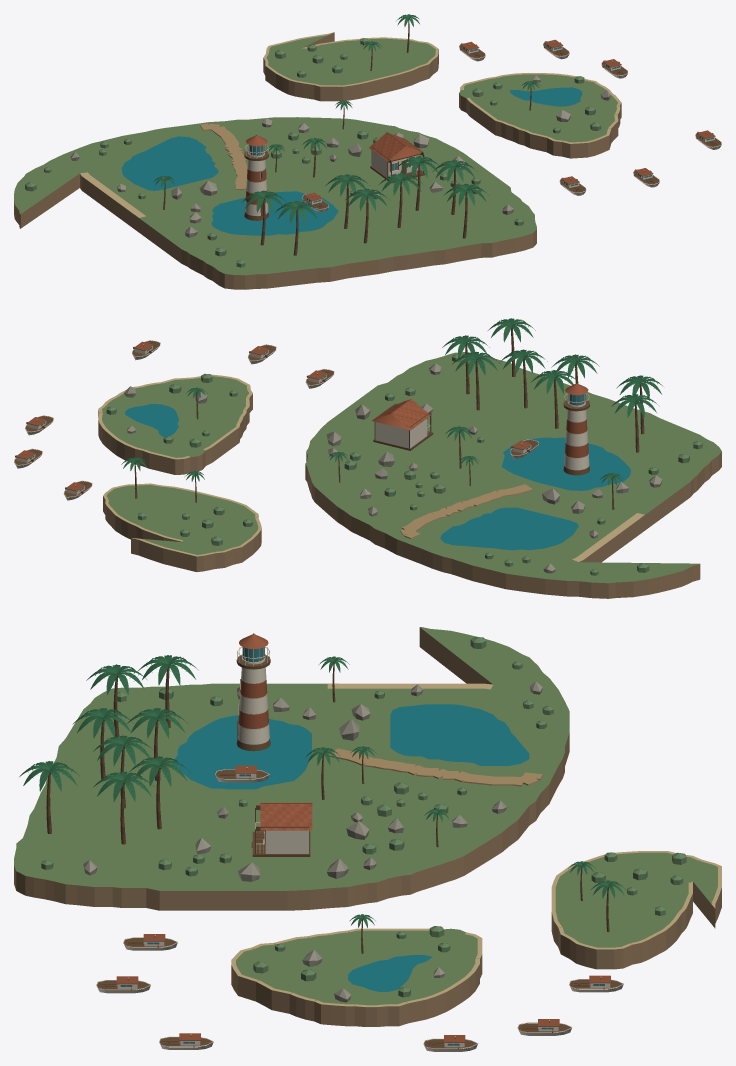
File: model-scene-coastal.glb
3 renders of one model, top to bottom at view 1: azimuth 30°, elevation 25°; view 2: azimuth 150°, elevation 25°; view 3: azimuth 270°, elevation 25°, orthographic. The views are drawn at different scales.
Parts seen in each view (by area): view 1: land-c2191259, land-83e66dc9, land-e67bfb3a, water-6e911087, water-dcebf052, cabin-eee16daa, lighthouse-6a3ef8b5, water-161bee82, road-8c27df0e, palm-fcf5655d, palm-a5e5d894, palm-e4e12d5a (+5 smaller); view 2: land-c2191259, land-e67bfb3a, land-83e66dc9, water-6e911087, water-dcebf052, cabin-eee16daa, lighthouse-6a3ef8b5, road-8c27df0e, water-161bee82, palm-ed6868f5, palm-a5e5d894, palm-fcf5655d (+5 smaller); view 3: land-c2191259, land-83e66dc9, land-e67bfb3a, water-6e911087, water-dcebf052, lighthouse-6a3ef8b5, cabin-eee16daa, road-8c27df0e, water-161bee82, palm-b118d524, palm-fdc477ab, palm-ed6868f5 (+12 smaller).
Part boxes in pixels (x1,y1,x2,y2): land-c2191259: (14, 100, 536, 289); land-83e66dc9: (459, 73, 621, 158); land-e67bfb3a: (263, 14, 438, 101); water-6e911087: (121, 136, 218, 190); water-dcebf052: (211, 191, 338, 235); cabin-eee16daa: (369, 132, 424, 182); lighthouse-6a3ef8b5: (244, 134, 268, 220); water-161bee82: (510, 87, 582, 106); road-8c27df0e: (200, 123, 247, 189); palm-fcf5655d: (379, 173, 422, 227); palm-a5e5d894: (242, 190, 284, 245); palm-e4e12d5a: (275, 201, 319, 255); land-c2191259: (305, 352, 721, 598); land-e67bfb3a: (103, 457, 261, 571); land-83e66dc9: (98, 373, 252, 474); water-6e911087: (440, 507, 578, 550); water-dcebf052: (501, 437, 630, 490); cabin-eee16daa: (372, 398, 433, 450); lighthouse-6a3ef8b5: (563, 383, 589, 475); road-8c27df0e: (400, 484, 532, 538); water-161bee82: (125, 404, 178, 437); palm-ed6868f5: (452, 351, 499, 410); palm-a5e5d894: (611, 394, 657, 452); palm-fcf5655d: (499, 349, 547, 408); land-c2191259: (14, 627, 569, 910); land-83e66dc9: (231, 914, 482, 1026); land-e67bfb3a: (551, 851, 721, 969); water-6e911087: (390, 704, 529, 765); water-dcebf052: (173, 715, 311, 789); lighthouse-6a3ef8b5: (236, 633, 270, 751); cabin-eee16daa: (251, 802, 312, 856); road-8c27df0e: (329, 748, 542, 786); water-161bee82: (348, 955, 432, 991); palm-b118d524: (19, 761, 79, 833); palm-fdc477ab: (93, 771, 153, 844); palm-ed6868f5: (128, 756, 189, 829).
Size of what is drawn, in the model's own units: 143 by 21.27 by 104.
